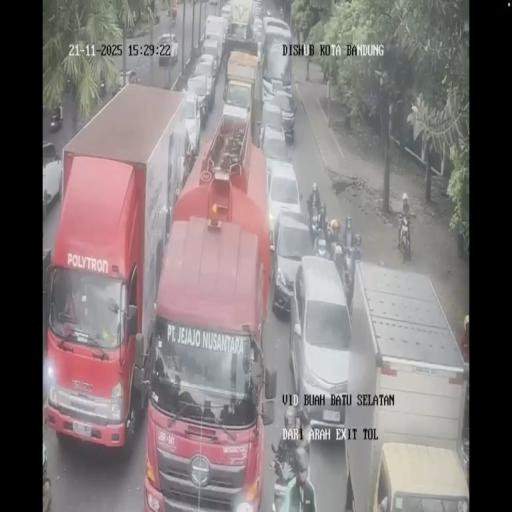car: (272, 208, 318, 318), (258, 99, 289, 157), (185, 71, 212, 127), (263, 16, 291, 47), (200, 38, 221, 77), (268, 77, 292, 109), (252, 18, 264, 49), (220, 3, 232, 28), (251, 0, 263, 19)
motorcycle: (397, 212, 413, 264), (308, 210, 322, 249), (332, 241, 345, 281), (278, 6, 284, 18)
truck: (44, 84, 192, 452), (334, 262, 468, 510)
